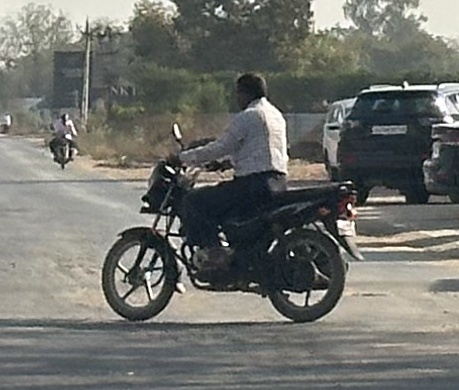BikeWithRider: (93, 65, 369, 327), (42, 108, 83, 171)
NoHelmet: (228, 68, 273, 113)
